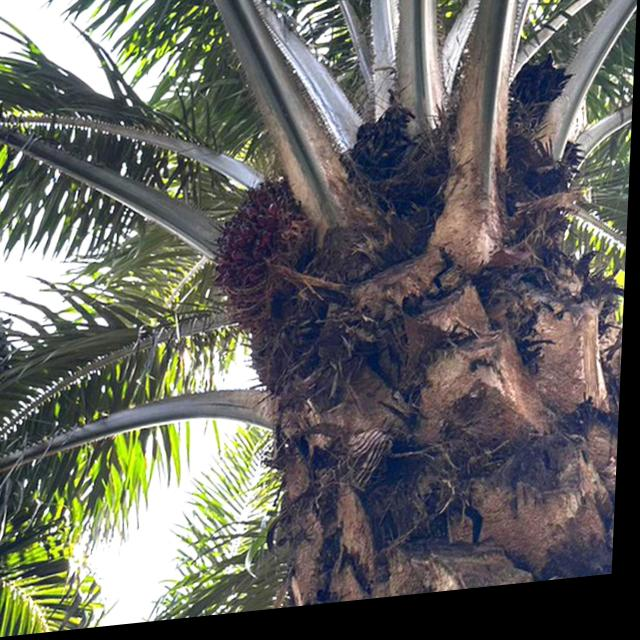ripe: (204, 166, 326, 339)
